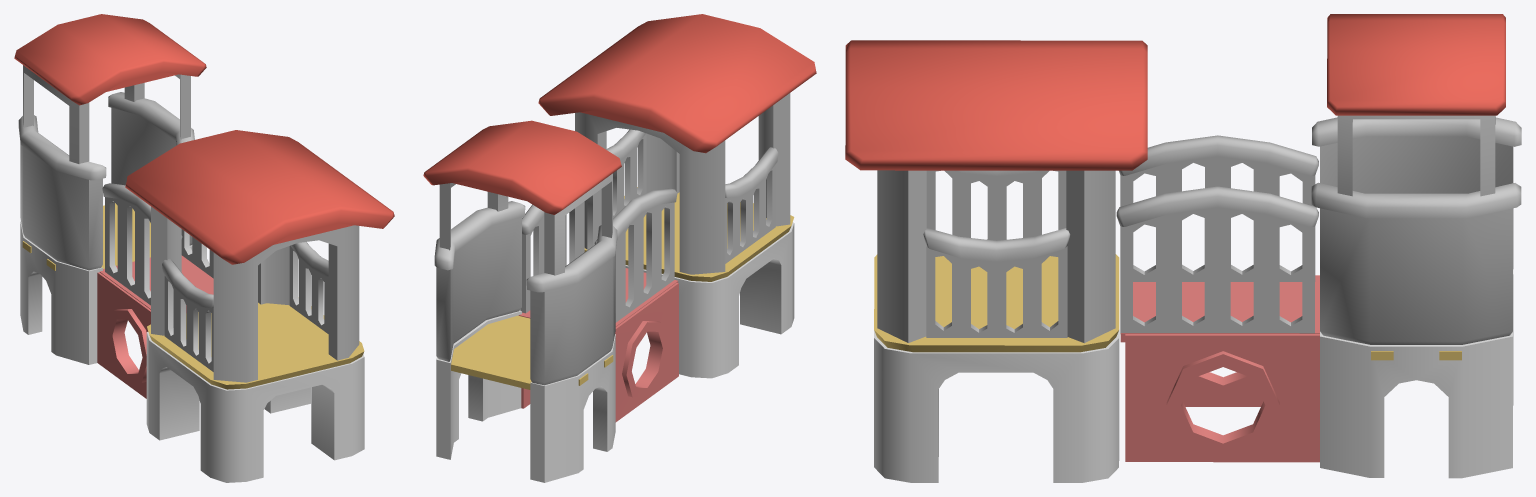
3 renders of one model, left to right at view 1: azimuth 30°, elevation 25°; view 2: azimuth 150°, elevation 25°; view 3: azimuth 270°, elevation 25°, orthographic. The views are drawn at different scales.
Parts seen in each view (by area): view 1: toy_002; view 2: toy_002; view 3: toy_002.
Part boxes in pixels (x1,y1,x2,y2): toy_002: [14, 14, 394, 482]; toy_002: [423, 14, 816, 482]; toy_002: [845, 14, 1521, 482].
Bounding box in the file's own units: 0.2939 × 0.4621 × 0.7102.
